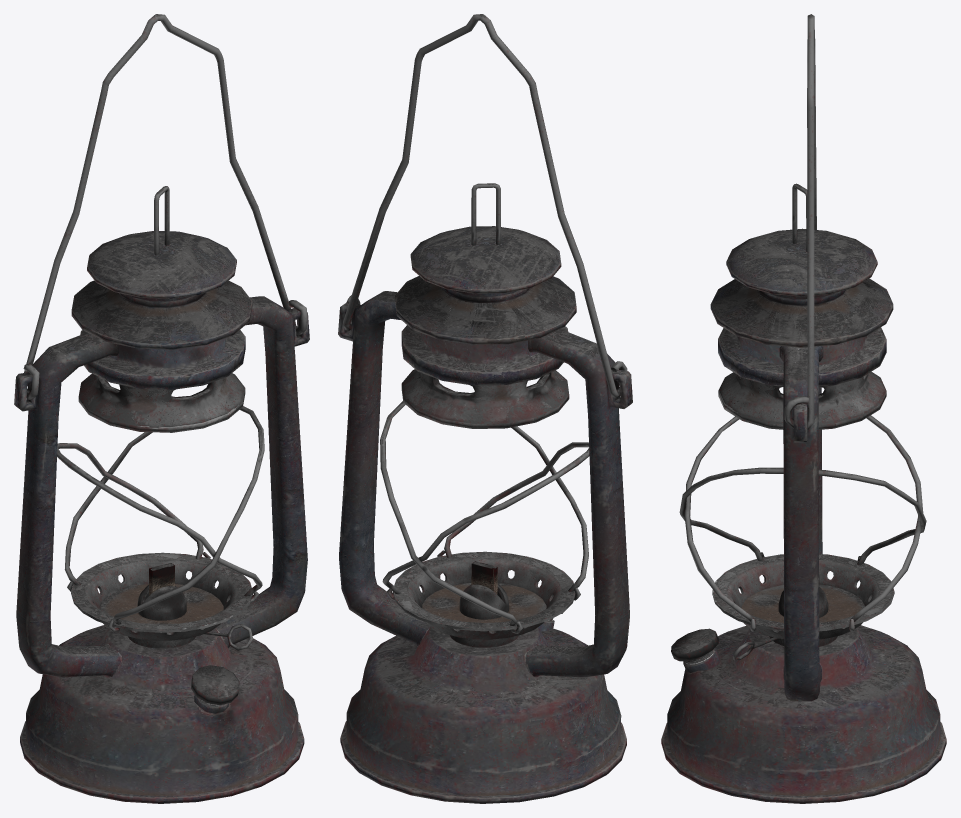
File: lamp.gltf
3 renders of one model, left to right at view 1: azimuth 30°, elevation 25°; view 2: azimuth 150°, elevation 25°; view 3: azimuth 270°, elevation 25°, orthographic.
Parts seen in each view (by area): view 1: 4_Material_0, 1_Material_0, 6_Material_0, 2_Material_0, 3_Material_0; view 2: 4_Material_0, 1_Material_0, 6_Material_0, 2_Material_0, 3_Material_0; view 3: 4_Material_0, 1_Material_0, 6_Material_0, 2_Material_0, 3_Material_0.
Part boxes in pixels (<box>): 4_Material_0: <box>20,231,304,803</box>; 1_Material_0: <box>14,296,309,676</box>; 6_Material_0: <box>71,552,252,648</box>; 2_Material_0: <box>23,14,307,650</box>; 3_Material_0: <box>78,373,245,713</box>; 4_Material_0: <box>340,226,626,803</box>; 1_Material_0: <box>338,291,632,677</box>; 6_Material_0: <box>392,551,575,647</box>; 2_Material_0: <box>343,14,627,633</box>; 3_Material_0: <box>401,369,569,631</box>; 4_Material_0: <box>661,228,946,803</box>; 1_Material_0: <box>779,346,823,701</box>; 6_Material_0: <box>712,554,894,646</box>; 2_Material_0: <box>679,14,926,660</box>; 3_Material_0: <box>671,371,886,672</box>.
Bounding box in the file's own units: 1.89 × 4.57 × 1.62.
Materials: 2 (2 with a texture image).
